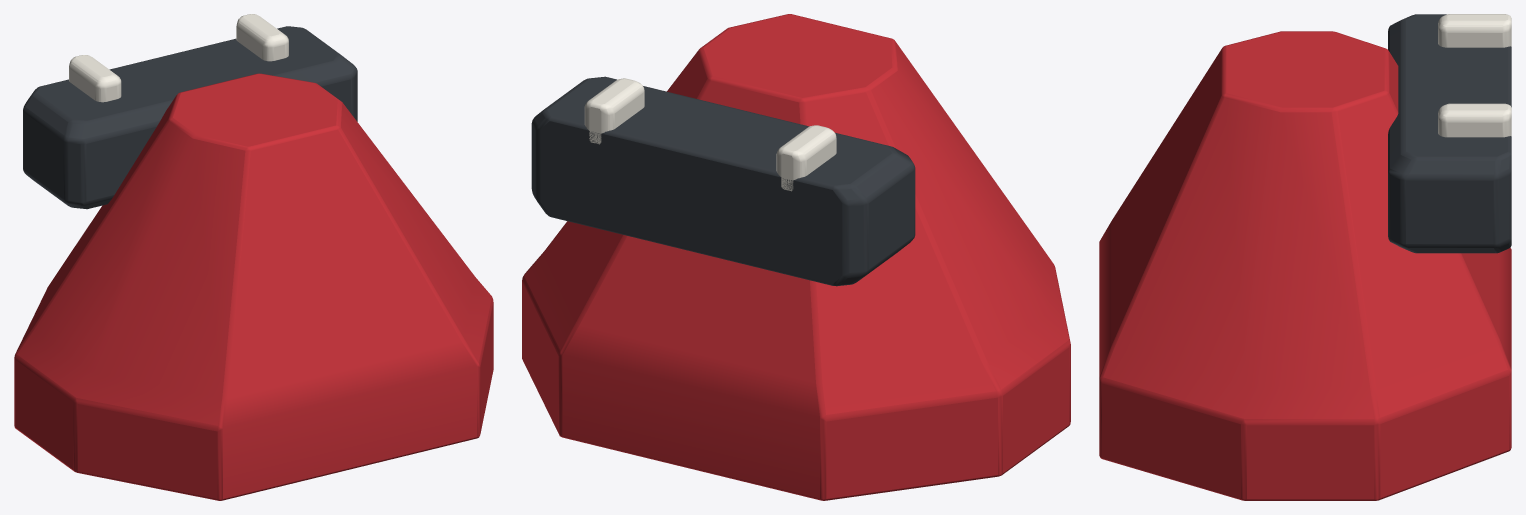
Rendered from AnimalHeadFront_Set01_Ironclad.fbx.
The picture shows the model from 3 angles, left to right: view 1: azimuth 30°, elevation 25°; view 2: azimuth 150°, elevation 25°; view 3: azimuth 270°, elevation 25°; orthographic projection. The views are drawn at different scales.
Parts seen in each view (by area): view 1: AnimalHeadFront_Set01_Ironclad; view 2: AnimalHeadFront_Set01_Ironclad; view 3: AnimalHeadFront_Set01_Ironclad.
Boxes of the visible parts, x1,y1,x2,y2 form: AnimalHeadFront_Set01_Ironclad: [14, 14, 493, 500]; AnimalHeadFront_Set01_Ironclad: [522, 14, 1070, 500]; AnimalHeadFront_Set01_Ironclad: [1099, 14, 1511, 500].
Bounding box in the file's own units: 0.36 × 0.2454 × 0.28.
